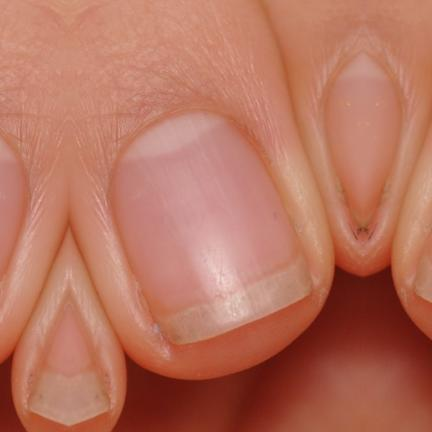Nail: (112, 112, 311, 344), (325, 57, 362, 218), (364, 57, 400, 218), (70, 308, 109, 424), (27, 308, 66, 424), (0, 138, 24, 279), (414, 228, 432, 303)
